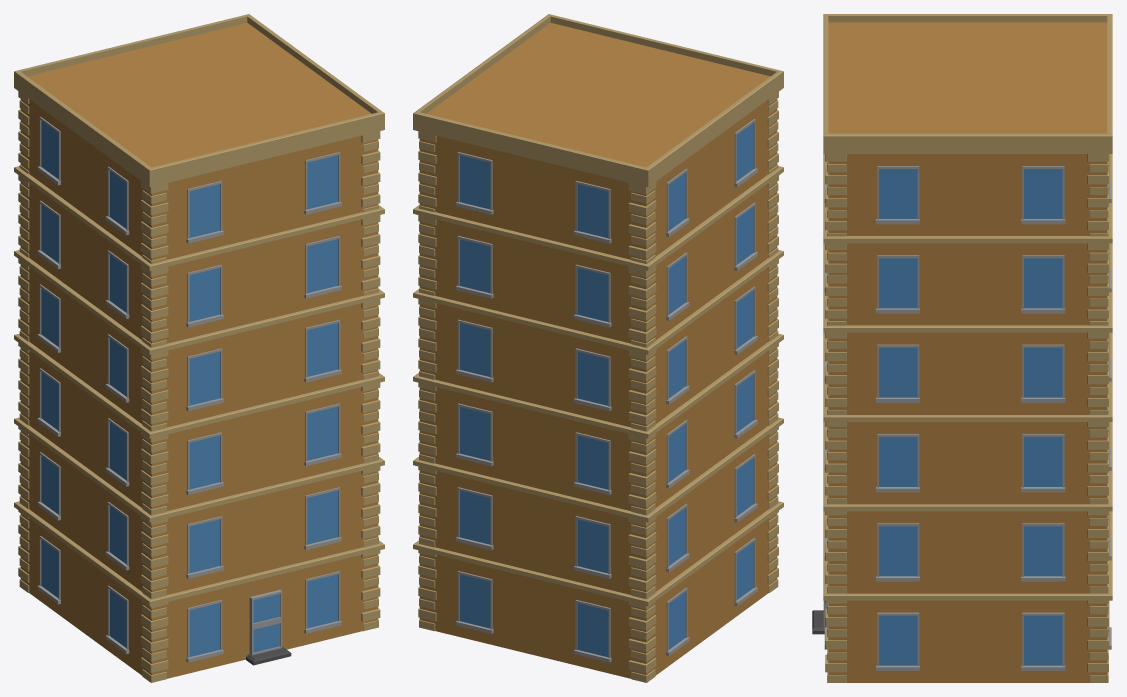
The model's file is GebouwGeelZonderTrap.fbx.
3 renders of one model, left to right at view 1: azimuth 30°, elevation 25°; view 2: azimuth 150°, elevation 25°; view 3: azimuth 270°, elevation 25°, orthographic. The views are drawn at different scales.
Visible parts, largest first — view 1: gebouwGeelZonderTrap; view 2: gebouwGeelZonderTrap; view 3: gebouwGeelZonderTrap.
Boxes of the visible parts, x1=… form: gebouwGeelZonderTrap: x1=14, y1=14, x2=384, y2=682; gebouwGeelZonderTrap: x1=413, y1=14, x2=783, y2=682; gebouwGeelZonderTrap: x1=812, y1=14, x2=1112, y2=682.
Size of the model in its own units: 622 by 1304 by 645.
